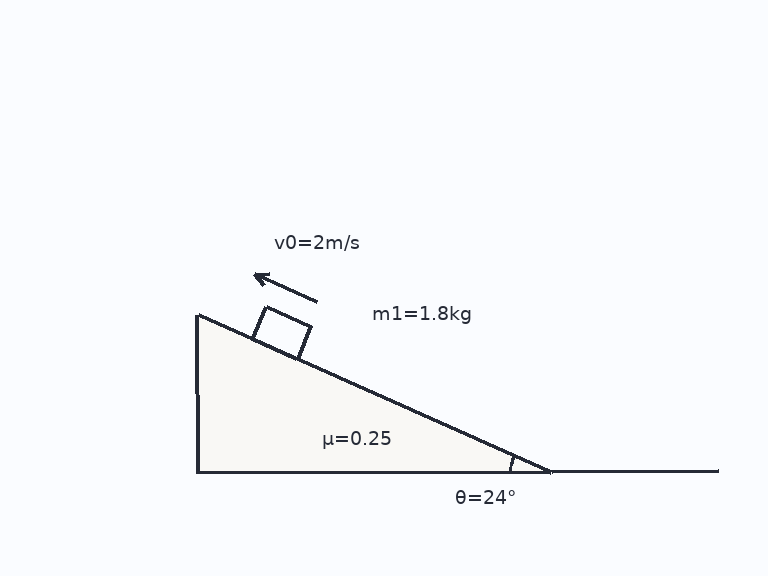block: (250, 305, 313, 361)
ramp: (195, 313, 552, 474)
